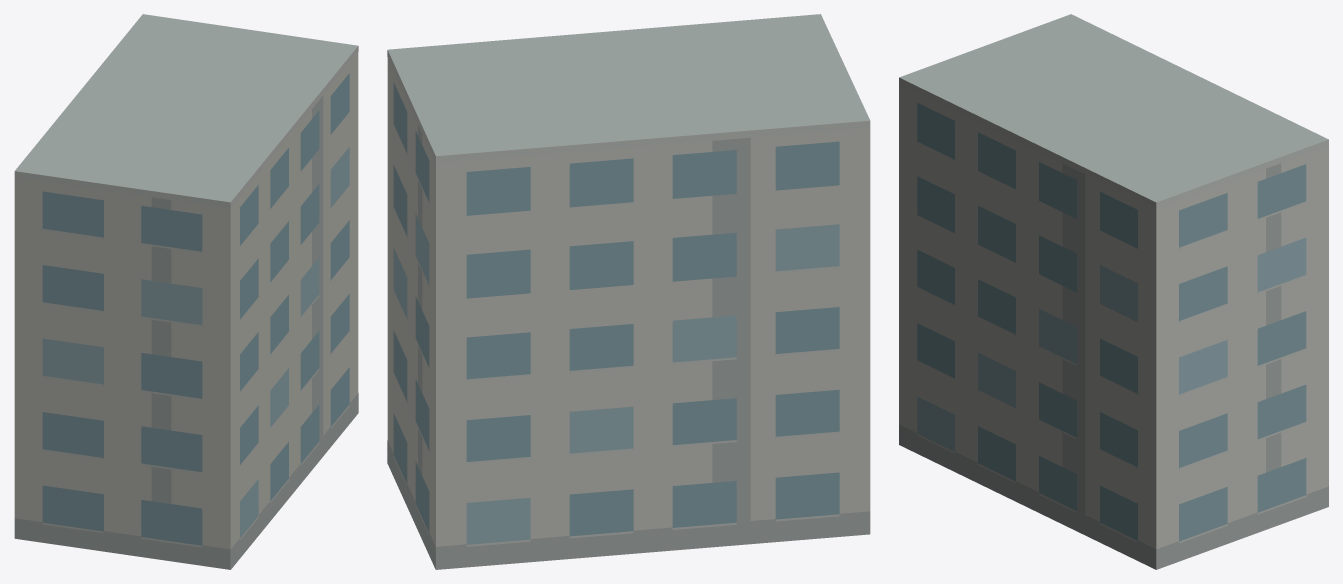
Rendered from survey-upis-32889570.glb.
3 views of the same model, side by side, from view 1: azimuth 30°, elevation 25°; view 2: azimuth 150°, elevation 25°; view 3: azimuth 270°, elevation 25° (orthographic). The views are drawn at different scales.
Parts seen in each view (by area): view 1: survey-upis-32889570.tmp; view 2: survey-upis-32889570.tmp; view 3: survey-upis-32889570.tmp.
Part boxes in pixels (left/top/right/bottom): survey-upis-32889570.tmp: left=14, top=14, right=358, bottom=569; survey-upis-32889570.tmp: left=387, top=14, right=870, bottom=569; survey-upis-32889570.tmp: left=899, top=14, right=1328, bottom=569.
Bounding box in the file's own units: 15.41 × 14 × 14.85.
